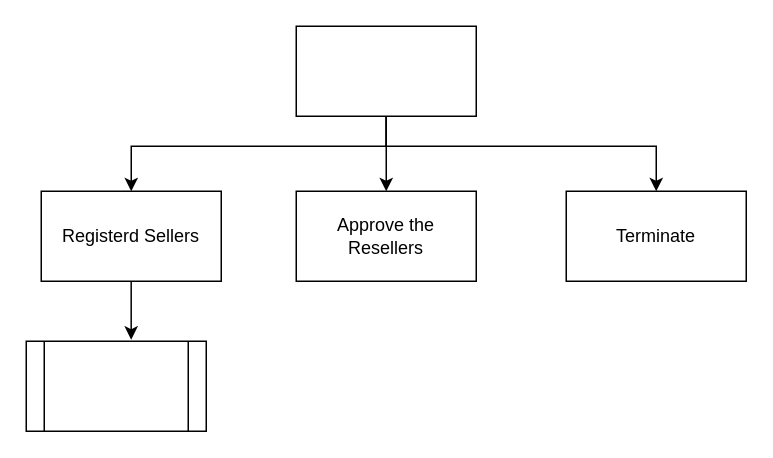
This 773x458 diagram has some shape labels left out. The centre of each missing label's shape, as x and y in pixels:
"Products Info" belongs at pixel 115 385.
"Retail Page" belongs at pixel 385 70.
